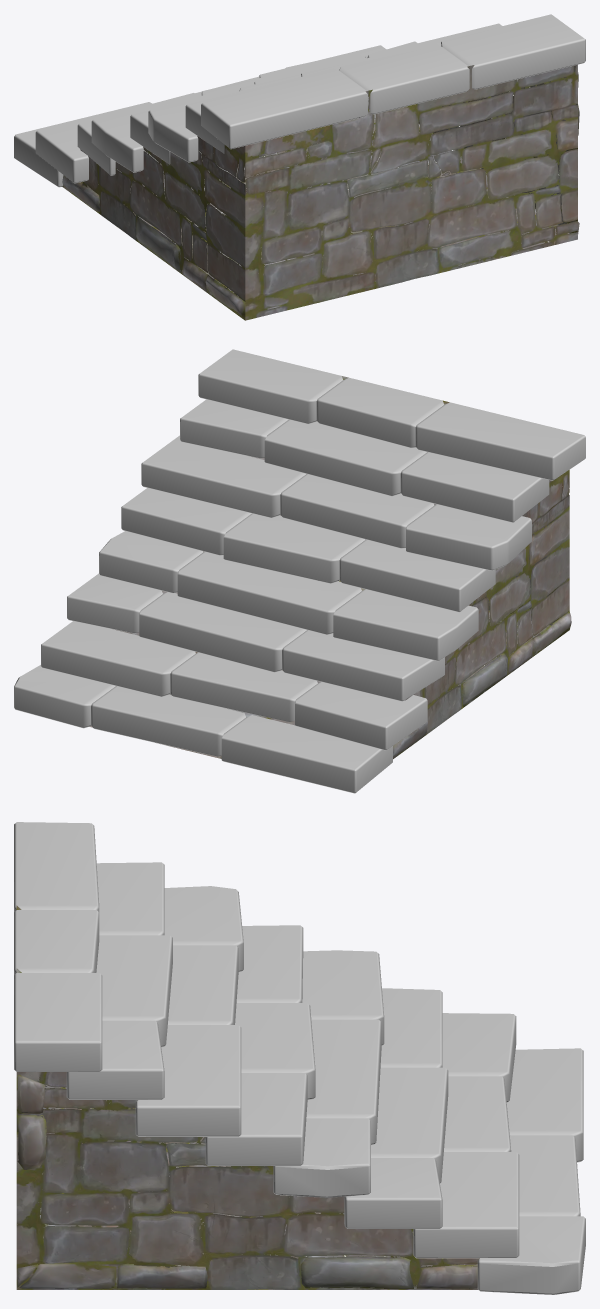
The picture shows the model from 3 angles, top to bottom: view 1: azimuth 30°, elevation 25°; view 2: azimuth 150°, elevation 25°; view 3: azimuth 270°, elevation 25°; orthographic projection. The views are drawn at different scales.
Visible parts, largest first — view 1: SM_Castle_Steps_4x2_01_v4_LOD0; view 2: SM_Castle_Steps_4x2_01_v4_LOD0; view 3: SM_Castle_Steps_4x2_01_v4_LOD0.
Part boxes in pixels (box(x1,y1,x2,y2)): SM_Castle_Steps_4x2_01_v4_LOD0: box(14, 14, 585, 320); SM_Castle_Steps_4x2_01_v4_LOD0: box(14, 349, 585, 793); SM_Castle_Steps_4x2_01_v4_LOD0: box(14, 822, 585, 1294).
Bounding box in the file's own units: 3.77 × 2 × 4.1.
